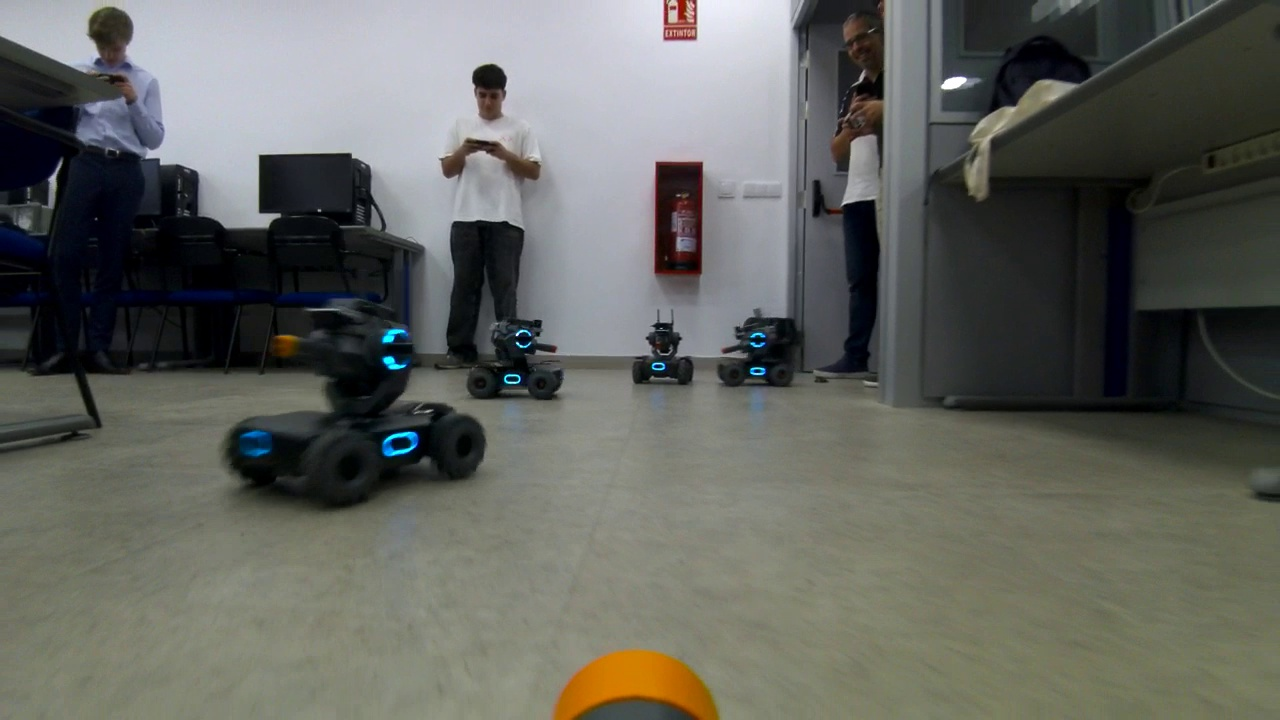robot: (209, 270, 489, 499), (469, 301, 562, 401), (717, 307, 811, 390), (633, 307, 698, 386)
